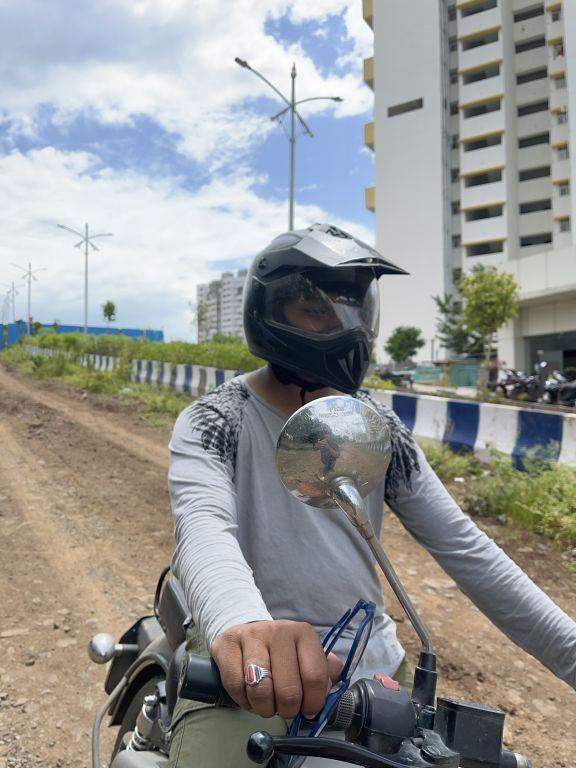helmet: (235, 215, 420, 413)
